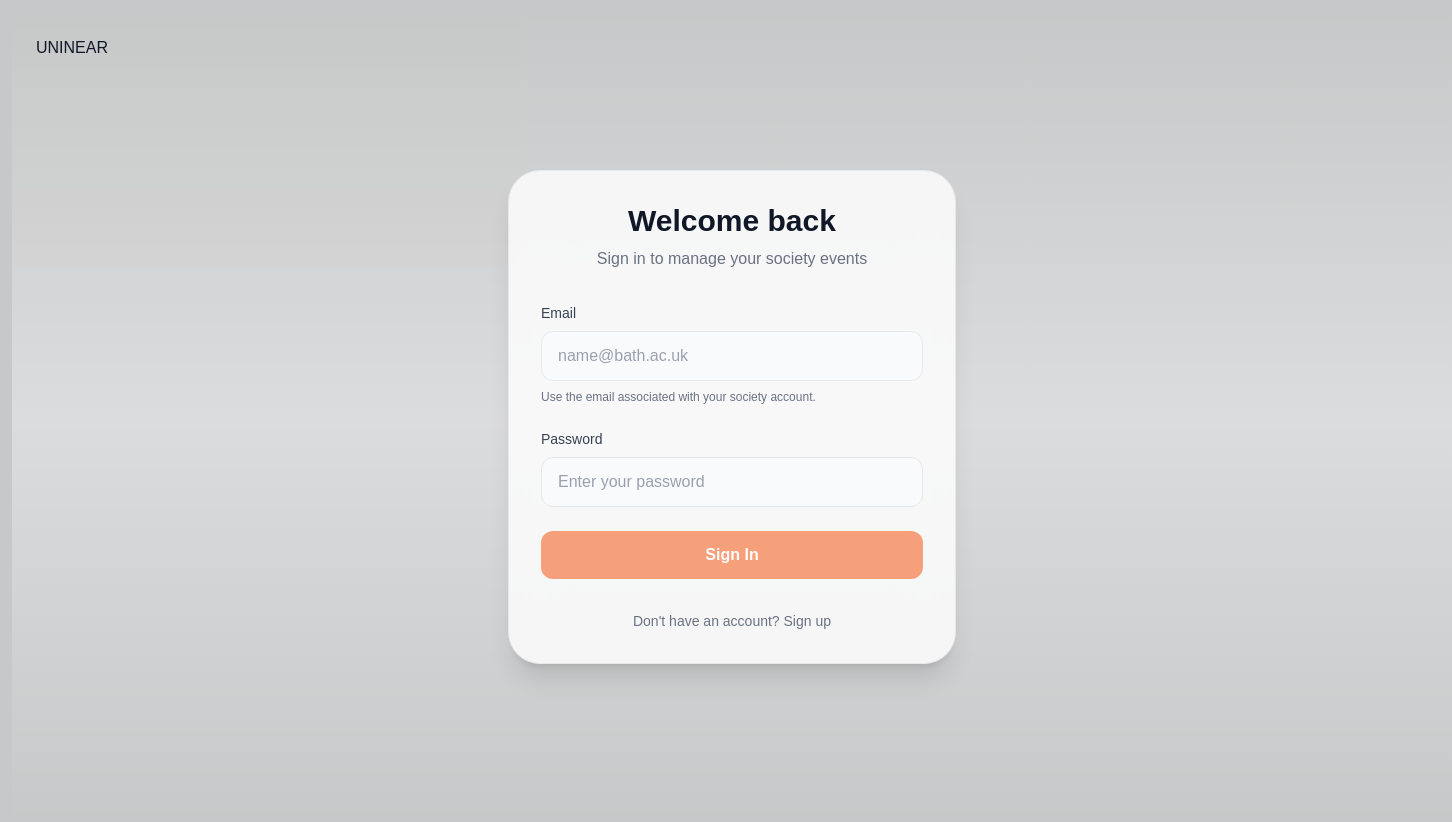
test_NFR08_user_login - Login Flow › AC2: failed login shows "Invalid email or password" error
The width and height of the screenshot is (1452, 822).
Step 1. Type "test@bath.ac.uk" into the field labelled "Email" → (732, 356), box [541,331,923,381]
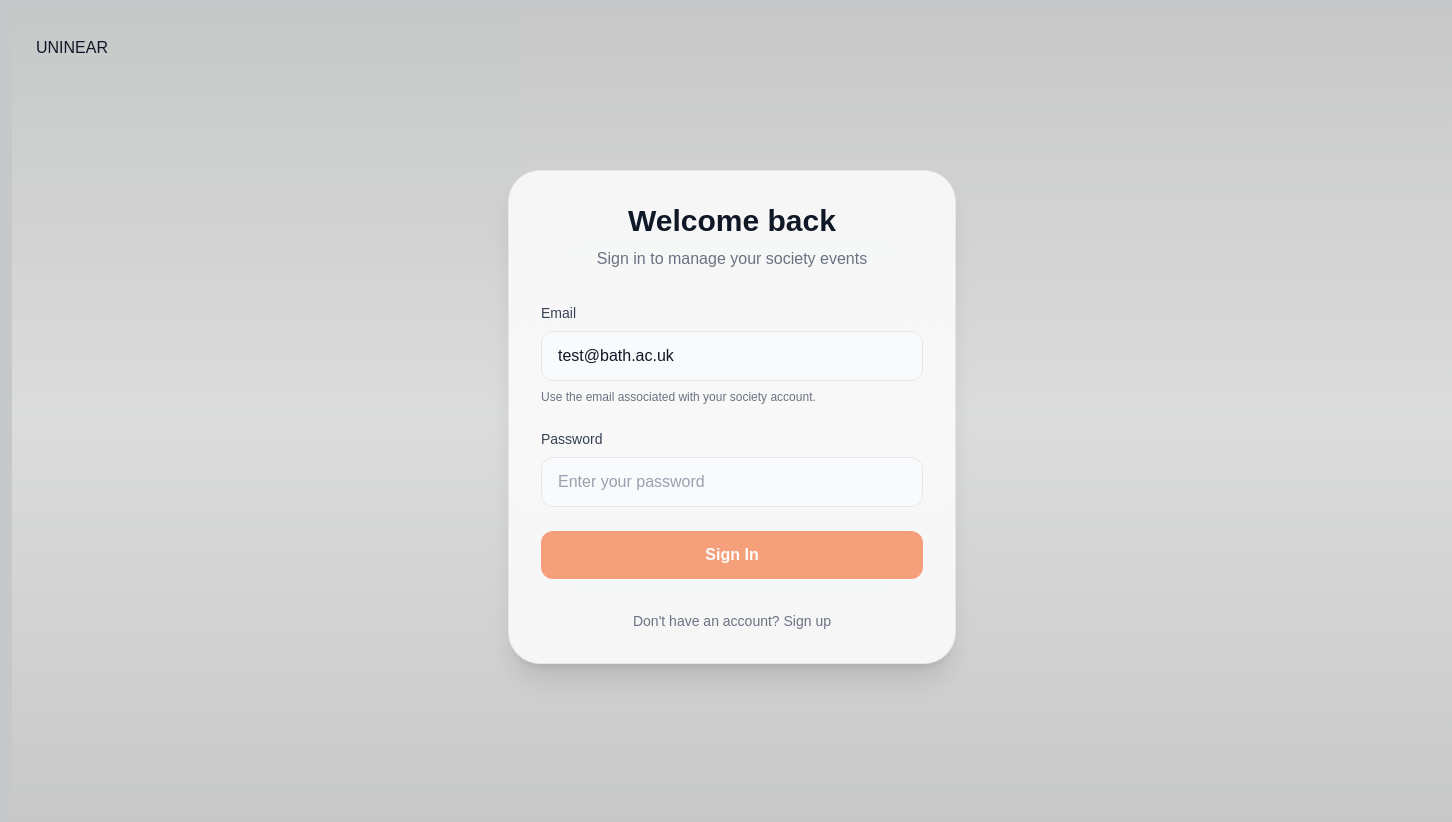
Step 2. Type "wrongpassword" into the password field labelled "Password" → (732, 482), box [541,457,923,507]
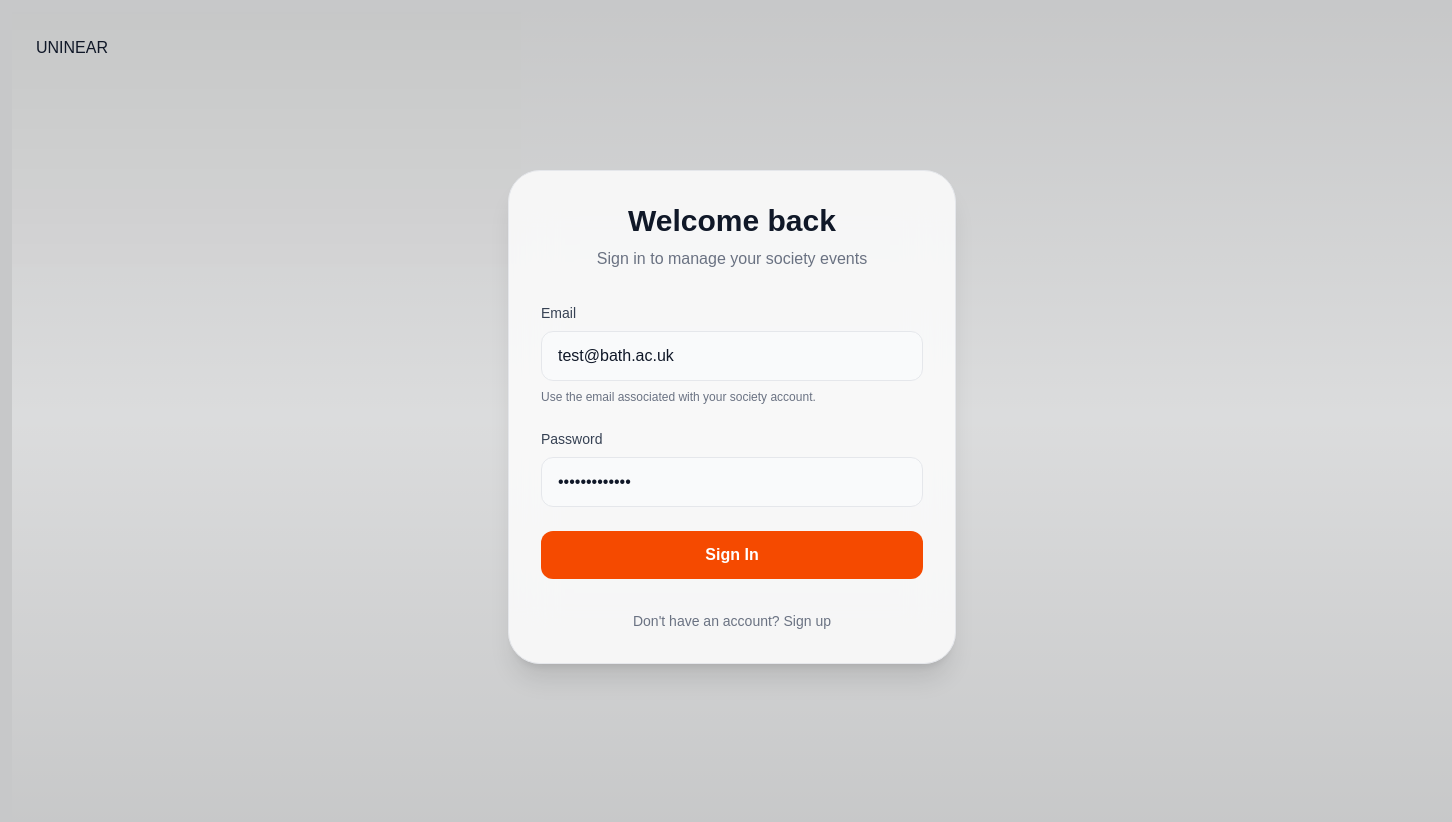
Step 3. Click the button "Sign In" → (732, 555), box [541,531,923,579]
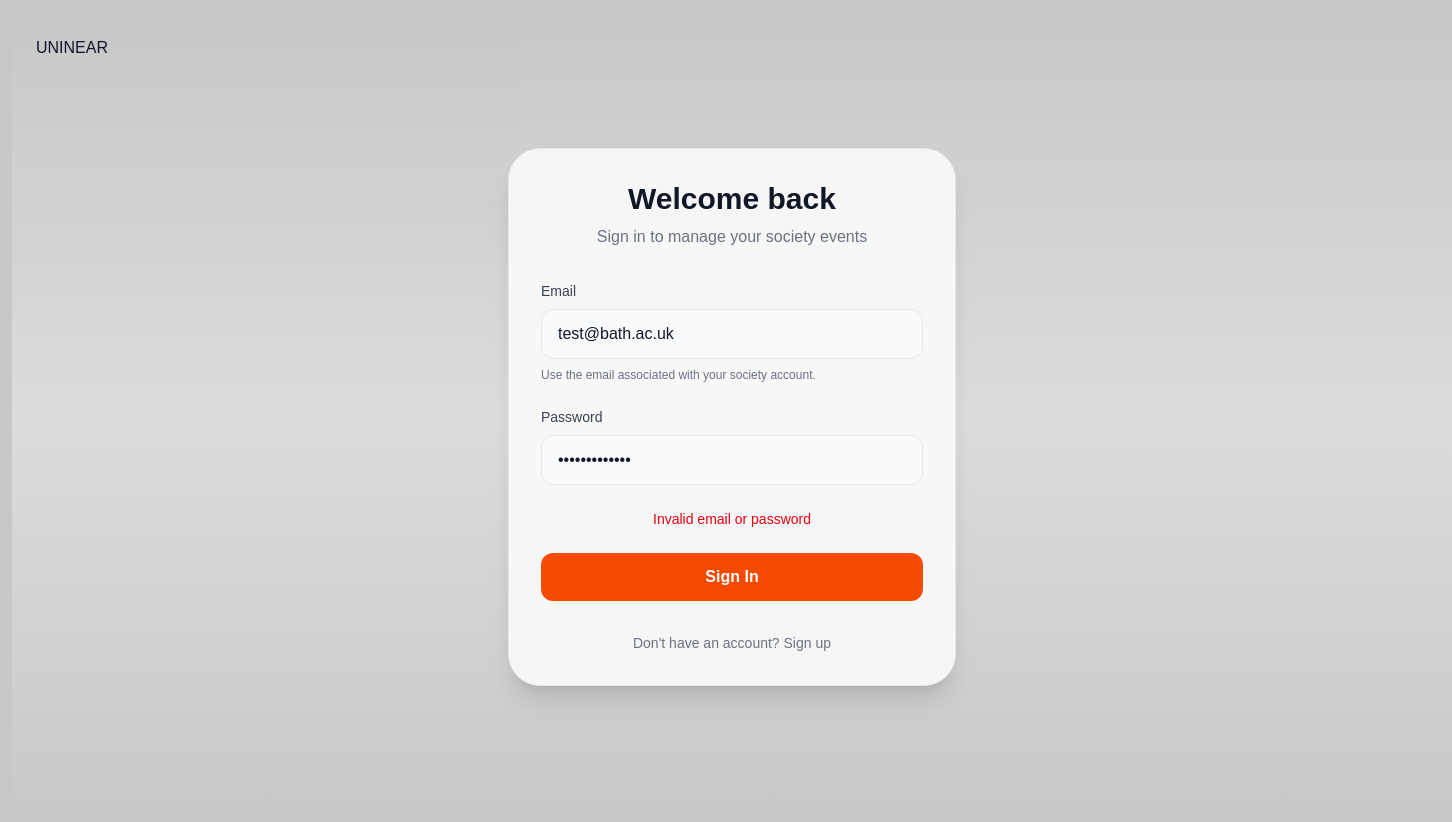
Result: the text "Invalid email or password" is shown at [653,511,811,527]
